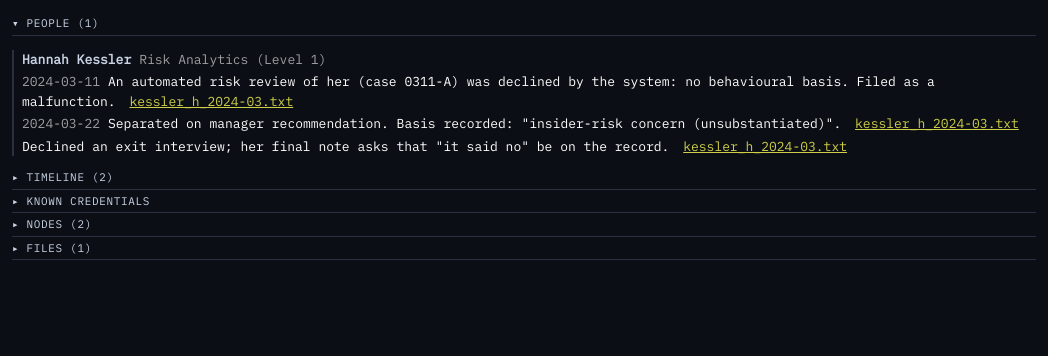
Test: CasePane — timeline, nodes and files › keeps the node and file lists the notes tab had
Click the button "▸ NODES (2)".
click(56, 224)  # box [12, 213, 1036, 236]
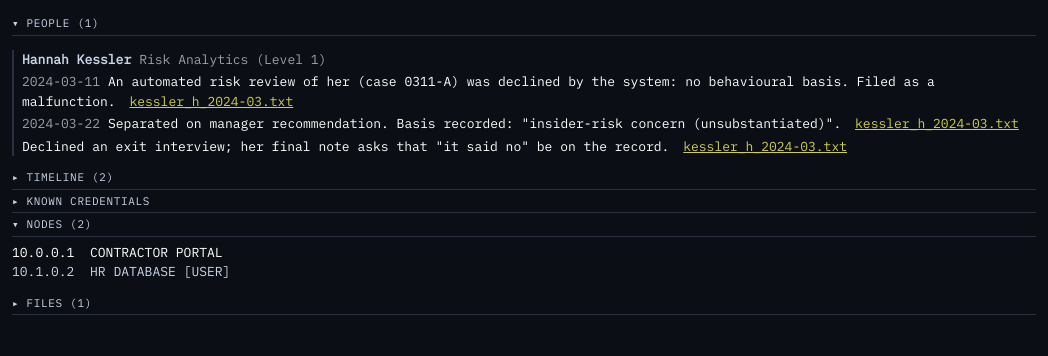
Expected: the text "10.1.0.2 HR DATABASE [USER]" is shown, [12, 263, 230, 280]
Click the button "▸ FILES (1)".
click(56, 302)  # box [12, 292, 1036, 315]
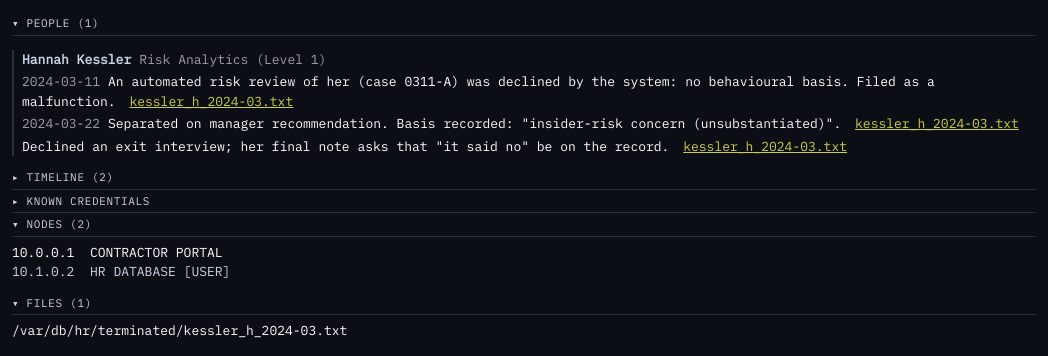
Expected: the text "/var/db/hr/terminated/kessler_h_2024-03.txt" is shown, [12, 322, 347, 339]
